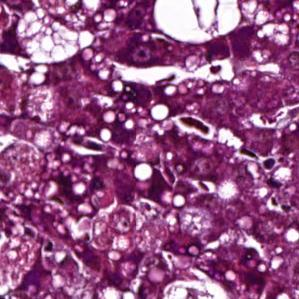ballooning: (152, 0, 243, 46), (159, 277, 232, 299)
